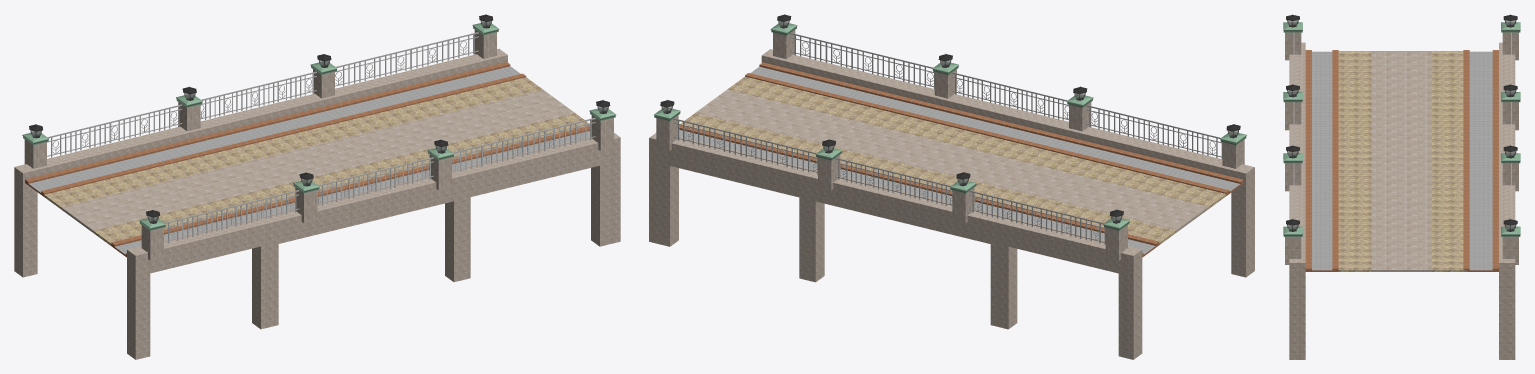
File: qiao5.FBX
The picture shows the model from 3 angles, left to right: view 1: azimuth 30°, elevation 25°; view 2: azimuth 150°, elevation 25°; view 3: azimuth 270°, elevation 25°; orthographic projection. The views are drawn at different scales.
Visible parts, largest first — view 1: qiao5; view 2: qiao5; view 3: qiao5.
Part boxes in pixels (box(x1,y1,x2,y2)): qiao5: box(14, 14, 620, 359); qiao5: box(649, 14, 1254, 359); qiao5: box(1283, 14, 1520, 359).
Bounding box in the file's own units: 2457 × 699 × 1120.
Materials: 8 (7 with a texture image).
